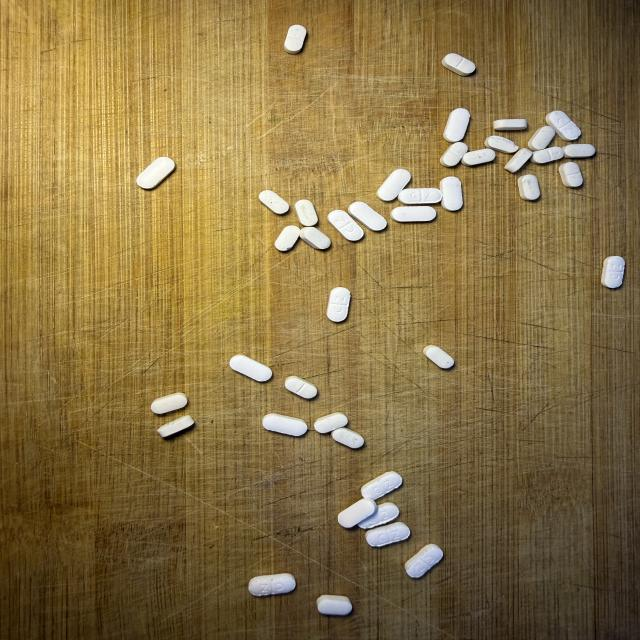pill: (405, 544, 443, 578), (137, 157, 175, 189), (338, 498, 376, 528), (361, 472, 402, 499), (348, 202, 386, 231), (230, 355, 272, 381), (328, 210, 363, 241), (377, 169, 410, 201), (366, 523, 410, 547), (359, 503, 399, 529), (546, 111, 580, 141), (249, 574, 295, 596), (263, 414, 307, 436), (444, 108, 470, 142), (158, 415, 195, 438), (150, 392, 188, 414), (327, 287, 350, 322), (440, 177, 463, 211), (442, 53, 475, 76), (398, 188, 442, 205), (601, 256, 624, 288), (285, 376, 317, 399), (259, 190, 289, 214), (391, 206, 436, 222), (424, 345, 454, 369), (317, 595, 352, 615), (440, 142, 467, 167), (505, 148, 533, 172), (314, 413, 347, 433), (300, 227, 330, 249), (528, 126, 555, 150), (332, 428, 364, 448), (284, 25, 306, 54), (530, 146, 564, 164), (559, 162, 583, 187), (275, 226, 299, 251), (295, 200, 318, 226), (461, 149, 495, 166), (485, 136, 518, 153), (518, 175, 540, 200), (563, 144, 595, 158), (494, 119, 527, 130)
